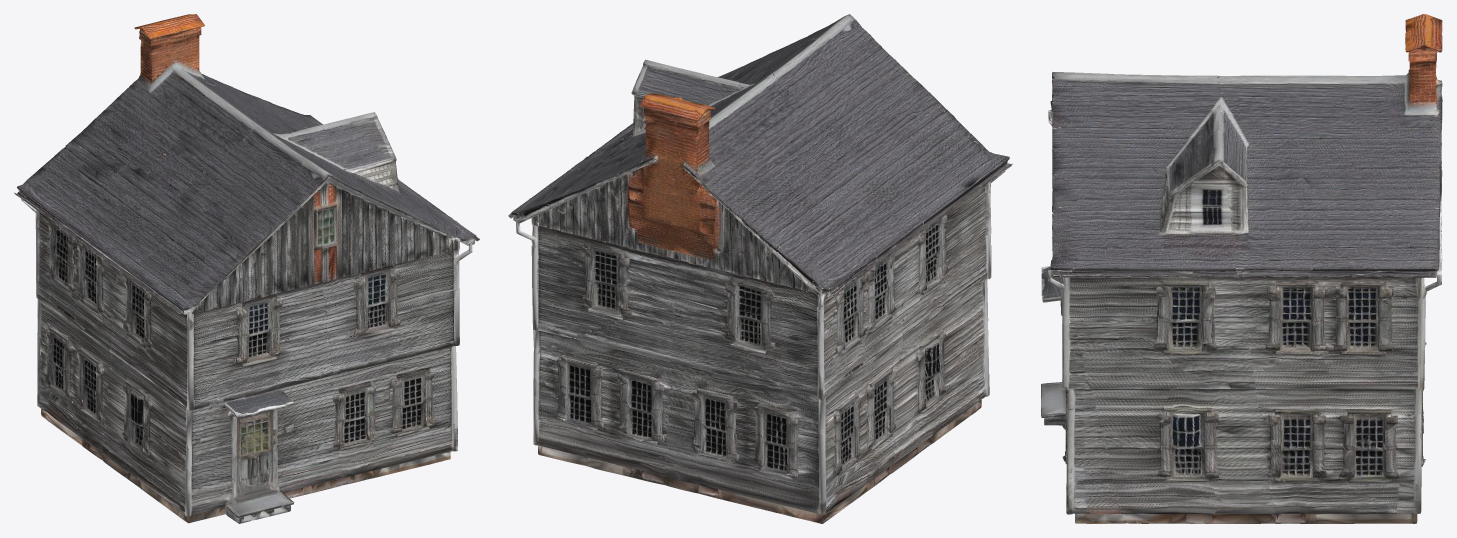
Rendered from bldg-clapboard.glb.
The picture shows the model from 3 angles, left to right: view 1: azimuth 30°, elevation 25°; view 2: azimuth 150°, elevation 25°; view 3: azimuth 270°, elevation 25°; orthographic projection. The views are drawn at different scales.
Parts seen in each view (by area): view 1: Mesh_0; view 2: Mesh_0; view 3: Mesh_0.
Boxes of the visible parts, x1=… form: Mesh_0: x1=14, y1=14, x2=479, y2=523; Mesh_0: x1=508, y1=14, x2=1012, y2=523; Mesh_0: x1=1041, y1=14, x2=1442, y2=523.
Size of the model in its own units: 1.67 by 1.9 by 1.65.
1 material, 1 textured.
